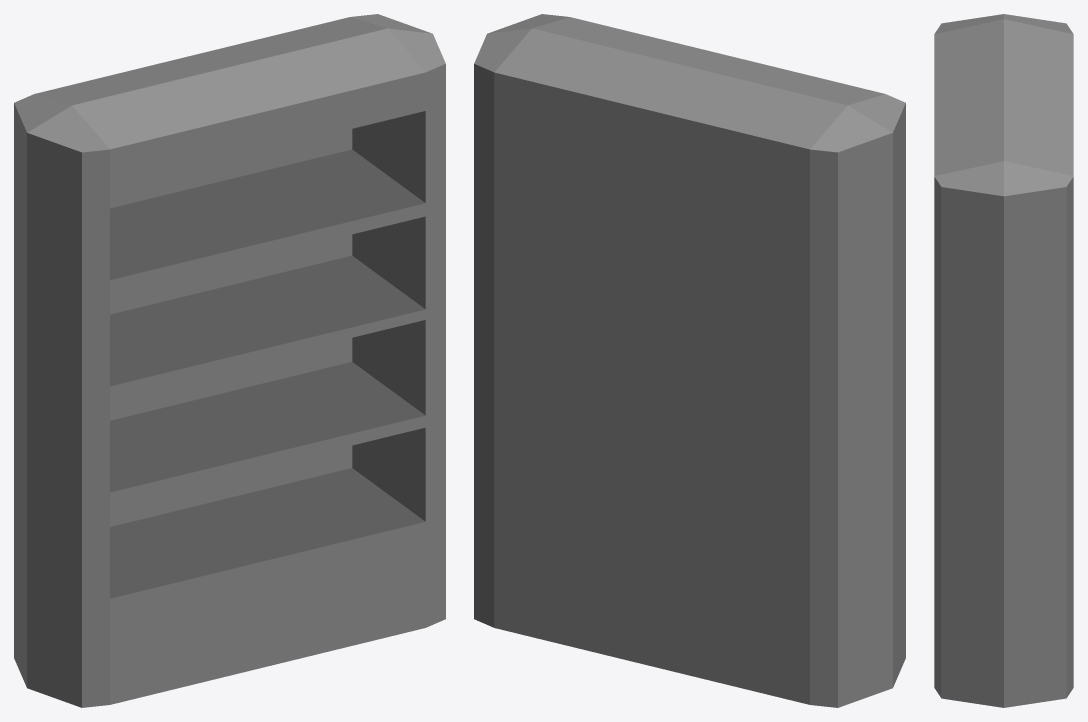
File: Bedroom_Prop_Shelf.fbx
The picture shows the model from 3 angles, left to right: view 1: azimuth 30°, elevation 25°; view 2: azimuth 150°, elevation 25°; view 3: azimuth 270°, elevation 25°; orthographic projection. The views are drawn at different scales.
Visible parts, largest first — view 1: Cube.002; view 2: Cube.002; view 3: Cube.002.
Boxes of the visible parts, x1,y1,x2,y2 form: Cube.002: (14, 14, 445, 707); Cube.002: (474, 14, 905, 707); Cube.002: (934, 14, 1073, 707).
Size of the model in its own units: 400 by 539 by 129.
